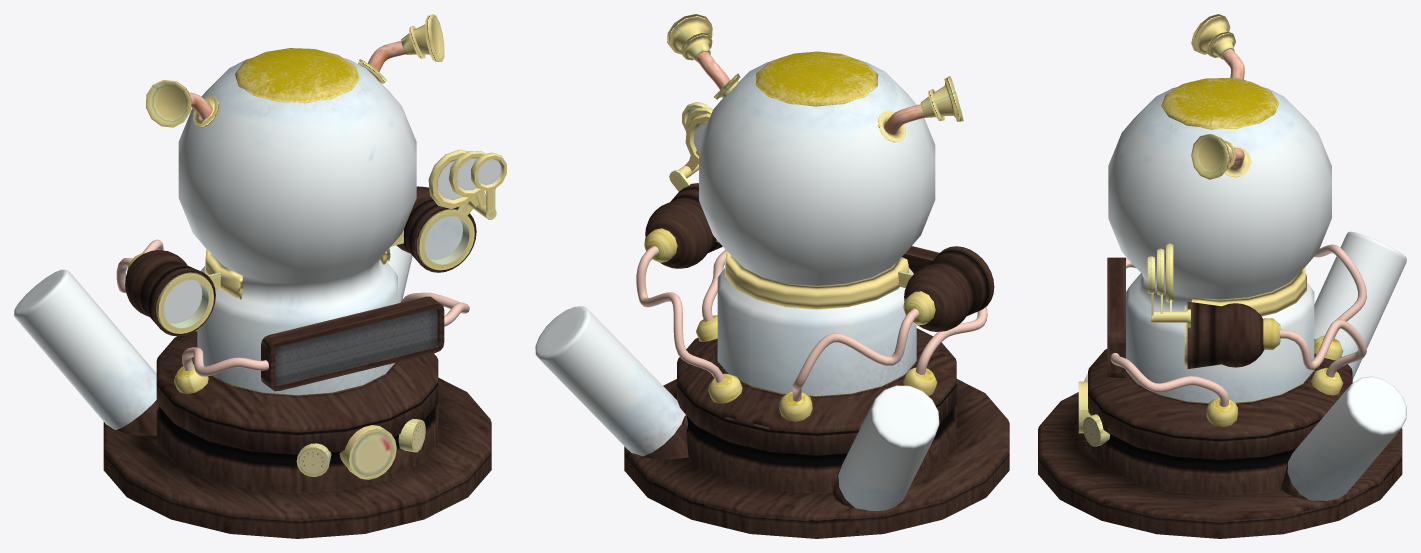
File: JAR BRAIN 2.fbx
3 renders of one model, left to right at view 1: azimuth 30°, elevation 25°; view 2: azimuth 150°, elevation 25°; view 3: azimuth 270°, elevation 25°, orthographic. The views are drawn at different scales.
Parts seen in each view (by area): view 1: Cylinder073_Cylinder073_jarbrain_0, Object001_glass_0; view 2: Cylinder073_Cylinder073_jarbrain_0, Object001_glass_0; view 3: Cylinder073_Cylinder073_jarbrain_0, Object001_glass_0.
Boxes of the visible parts, x1,y1,x2,y2 form: Cylinder073_Cylinder073_jarbrain_0: (103,14,506,538); Object001_glass_0: (14,58,501,429); Cylinder073_Cylinder073_jarbrain_0: (624,14,1009,538); Object001_glass_0: (535,62,939,510); Cylinder073_Cylinder073_jarbrain_0: (1038,14,1402,538); Object001_glass_0: (1108,87,1406,500).
Size of the model in its own units: 7.5 by 7.37 by 6.39.
